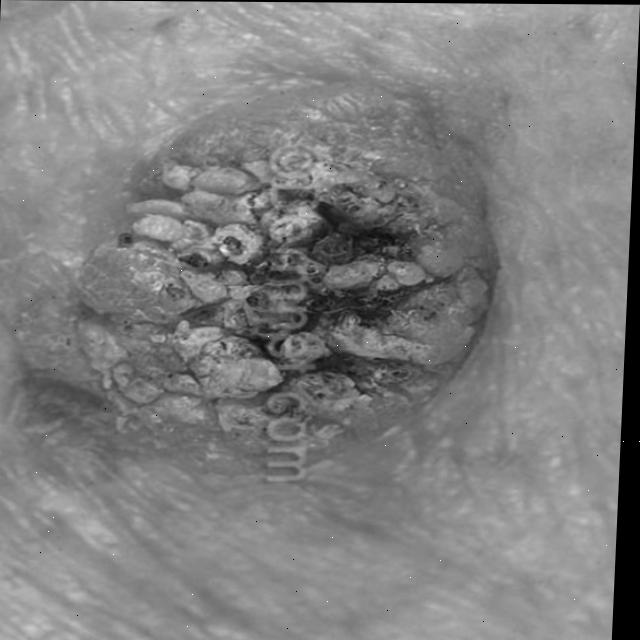Eczema: (114, 133, 426, 405)
